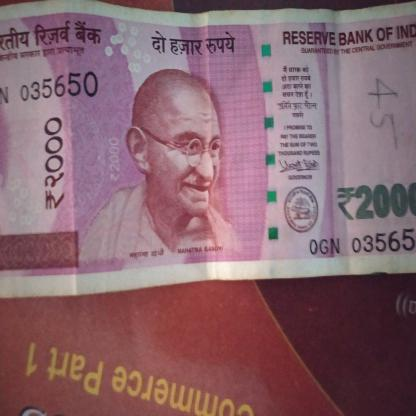New2000Front: (0, 10, 415, 274)
